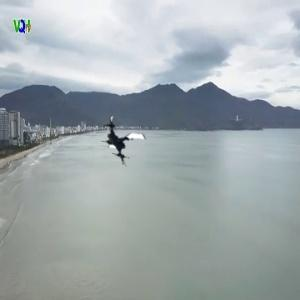drone: (98, 115, 154, 171)
